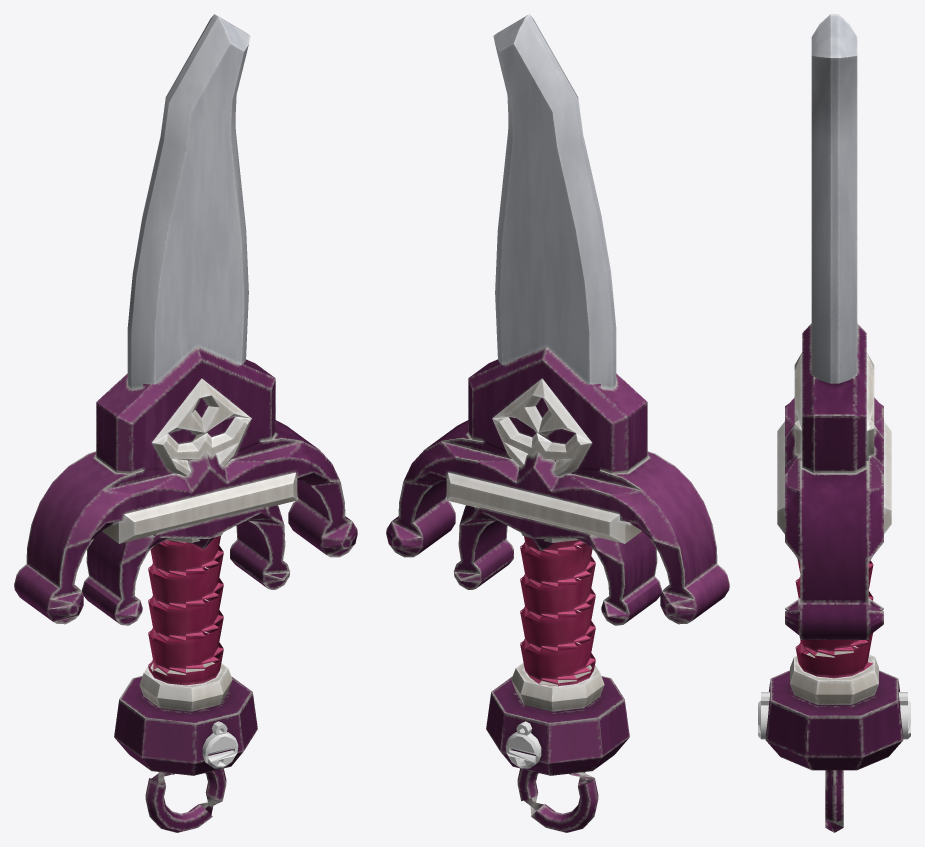
The model's file is Stage Whisper.fbx.
The picture shows the model from 3 angles, left to right: view 1: azimuth 30°, elevation 25°; view 2: azimuth 150°, elevation 25°; view 3: azimuth 270°, elevation 25°; orthographic projection. The views are drawn at different scales.
Parts seen in each view (by area): view 1: Stage Whisper_Body, Stage Whisper_Glow; view 2: Stage Whisper_Body, Stage Whisper_Glow; view 3: Stage Whisper_Body, Stage Whisper_Glow.
Boxes of the visible parts, left/top/right/bottom form: Stage Whisper_Body: left=14, top=14, right=357, bottom=832; Stage Whisper_Glow: left=202, top=721, right=238, bottom=768; Stage Whisper_Body: left=386, top=14, right=729, bottom=832; Stage Whisper_Glow: left=505, top=721, right=541, bottom=768; Stage Whisper_Body: left=765, top=14, right=903, bottom=832; Stage Whisper_Glow: left=758, top=692, right=910, bottom=739.
Size of the model in its own units: 0.9679 by 2.41 by 0.4022.
